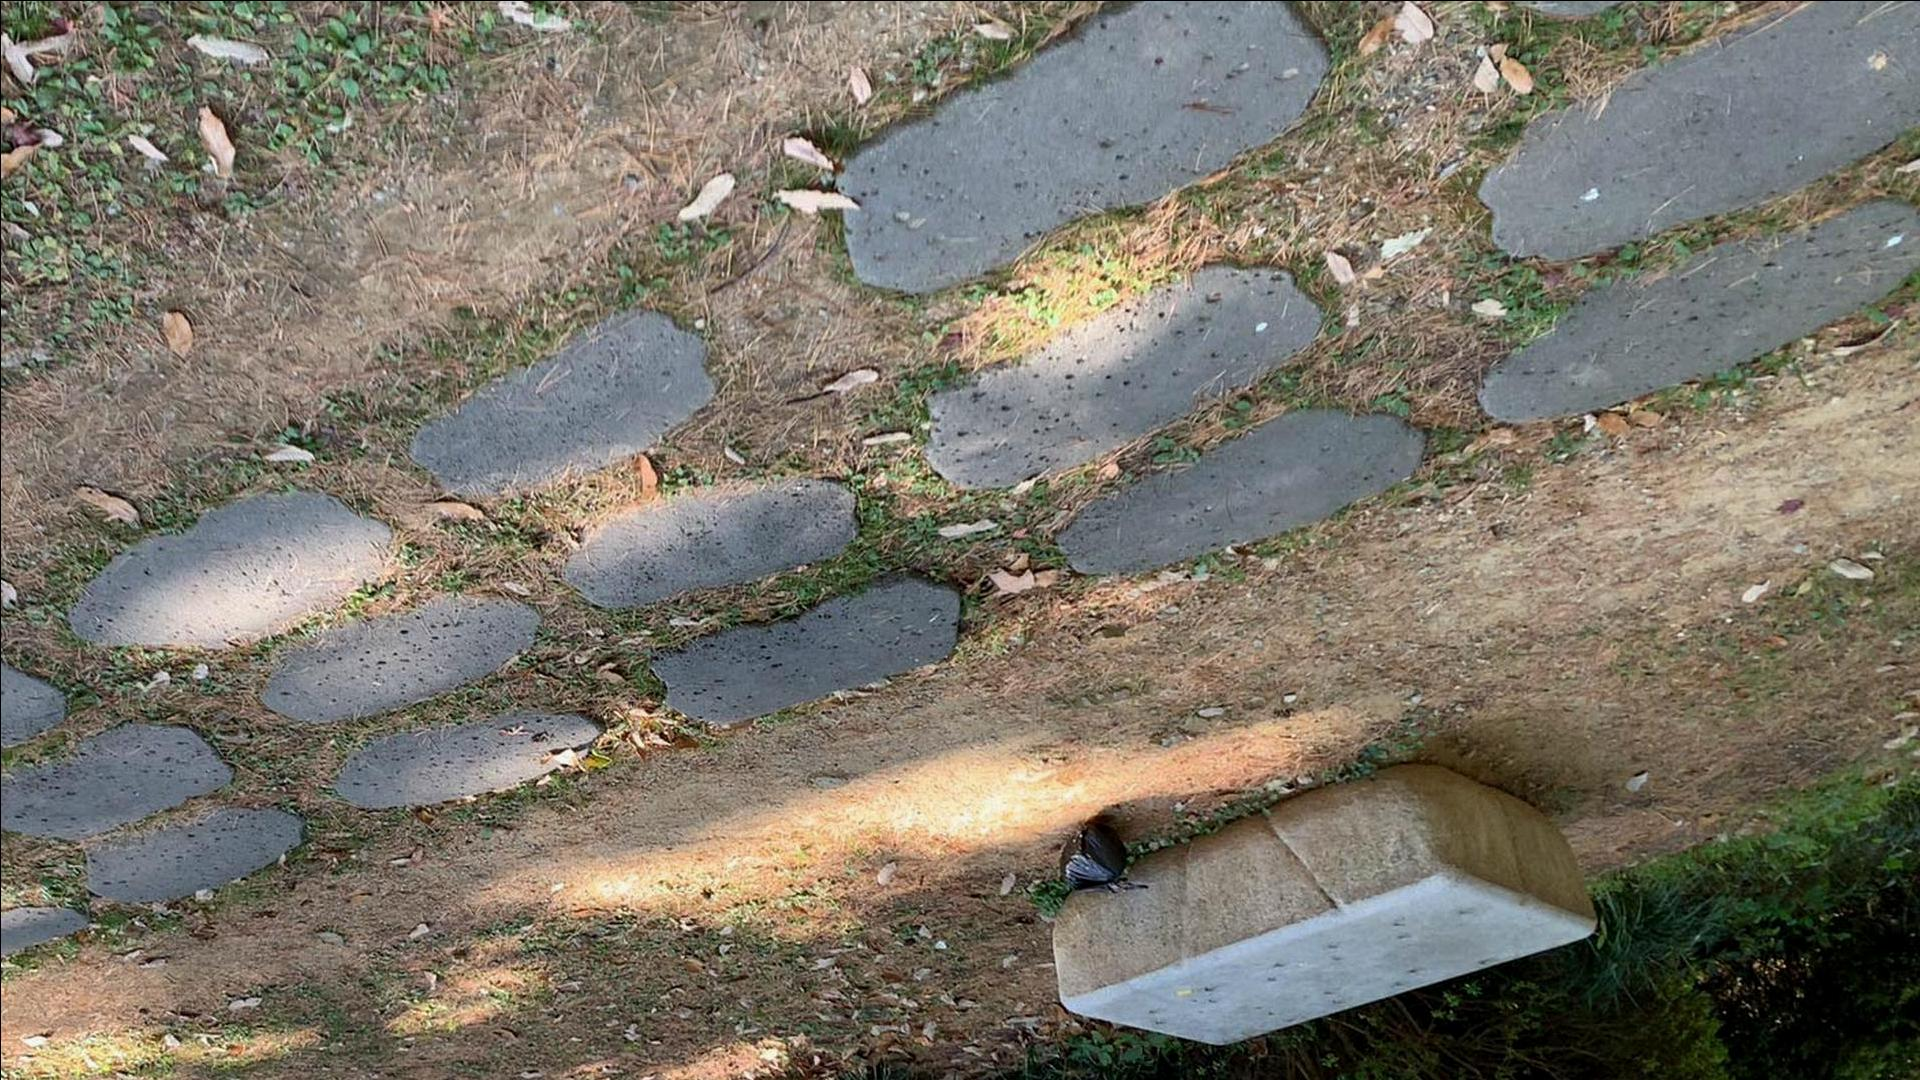black_bag: (1051, 819, 1153, 899)
